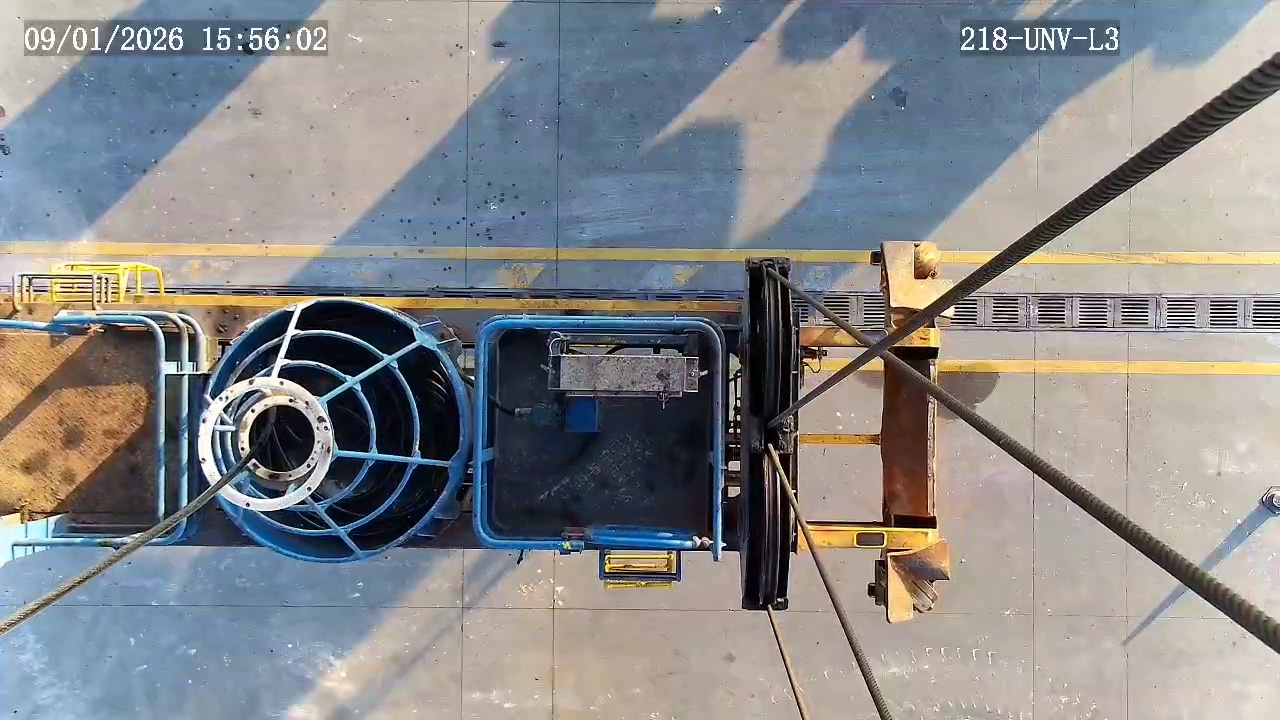right: (200, 297, 467, 563)
